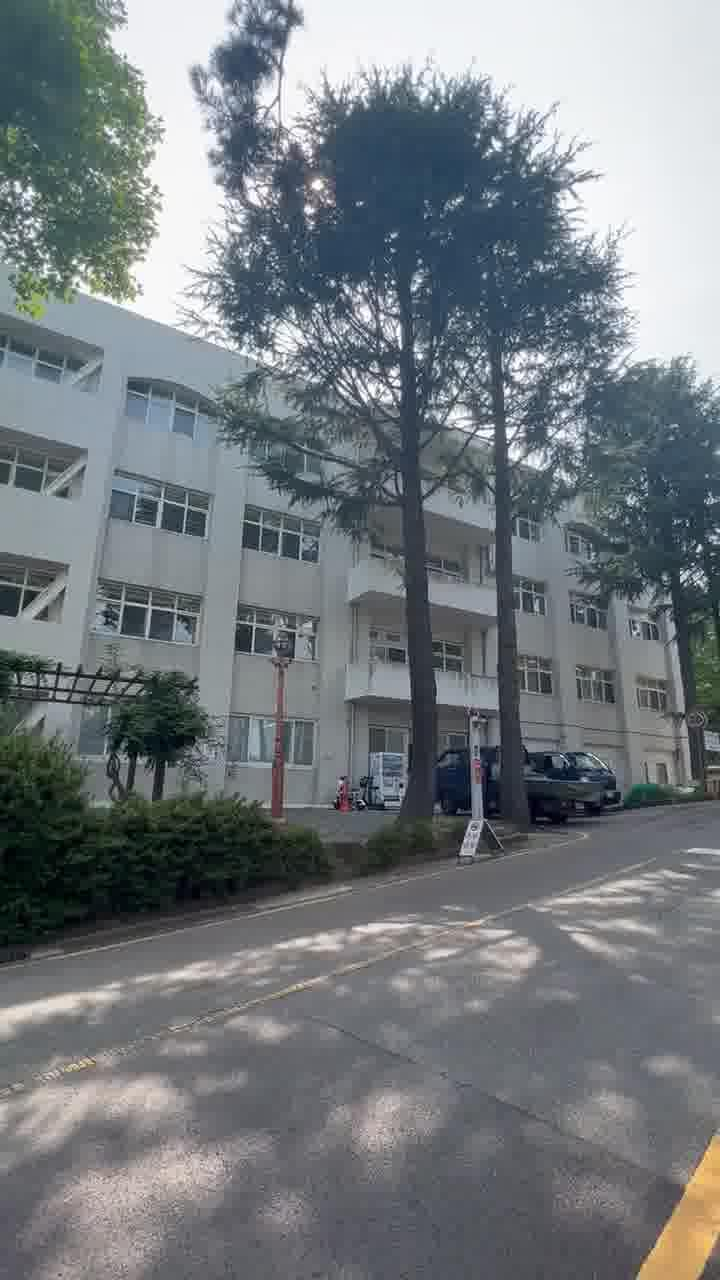building: (0, 310, 430, 812)
